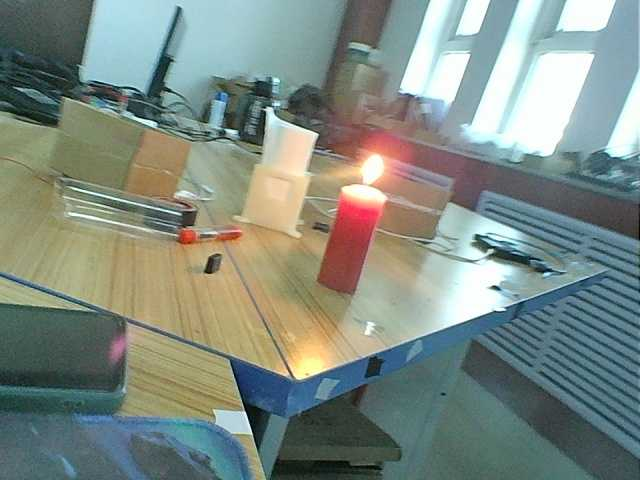candle: (318, 175, 369, 301)
fire: (346, 148, 390, 190)
